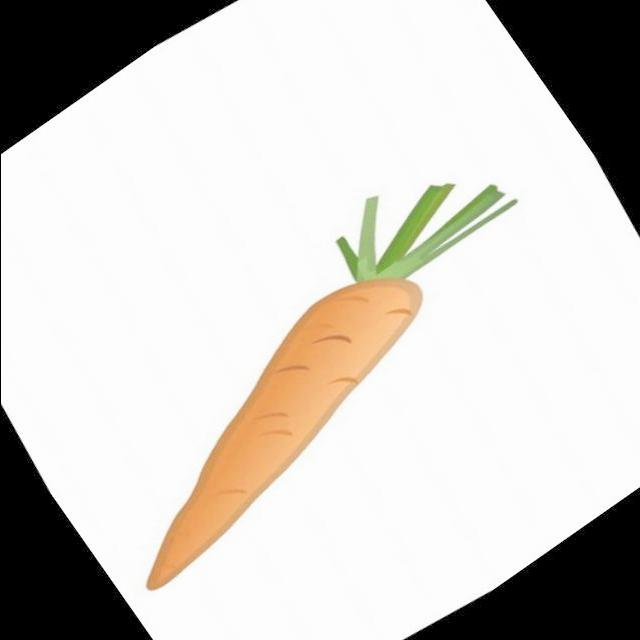carrot: (20, 103, 617, 640)
